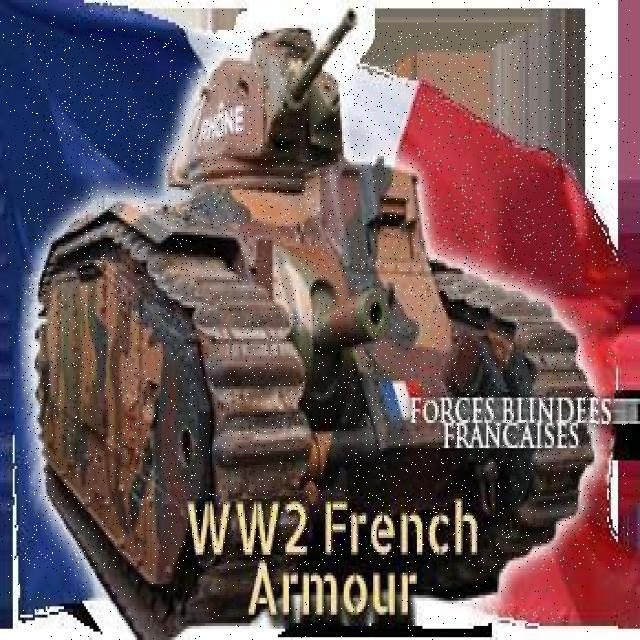MIL_MBT: (22, 30, 596, 570)
